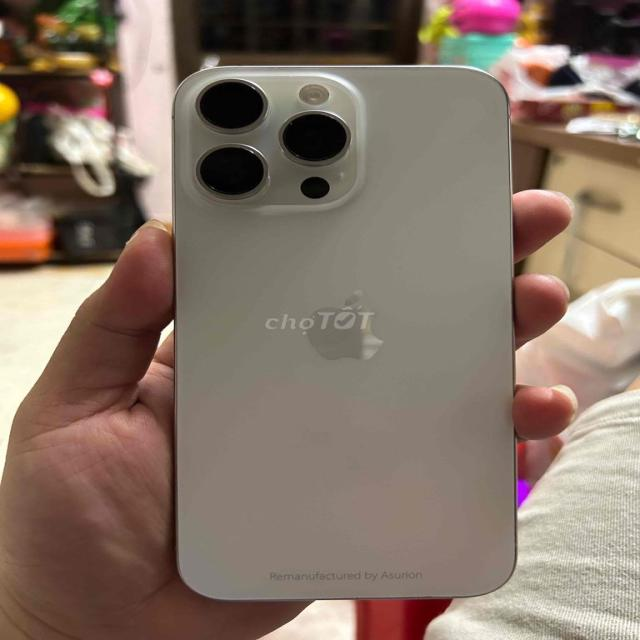gen_15: (163, 53, 527, 613)
